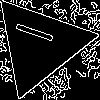I: (14, 19, 64, 48)
